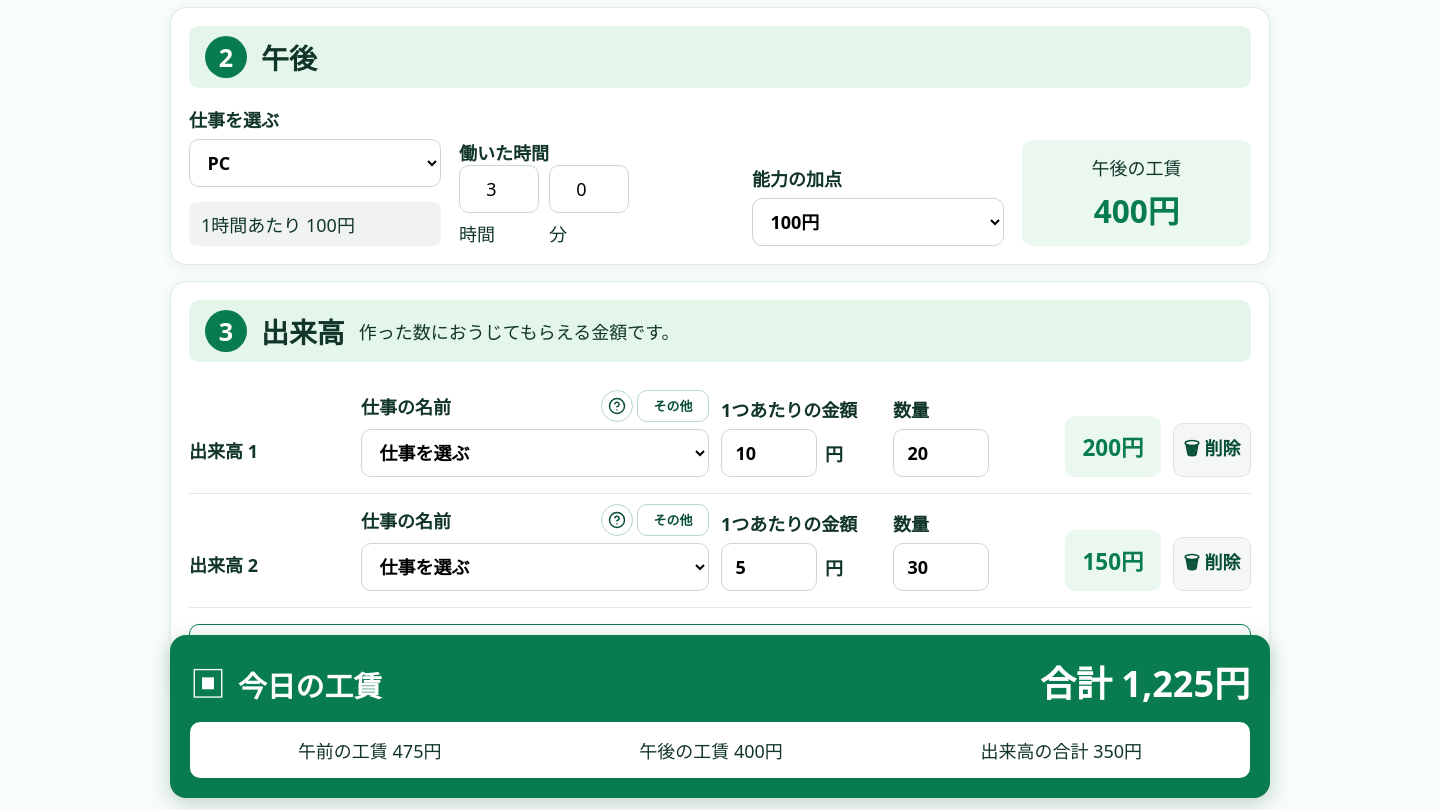
Test: 工賃シミュレーター › 出来高の名前ヘルプで入力欄とその他ボタンを案内する
(page scrolled)
Click the 1st button named "出来高の名前入力ヘルプ" at (617, 406), box [601,390,633,422]
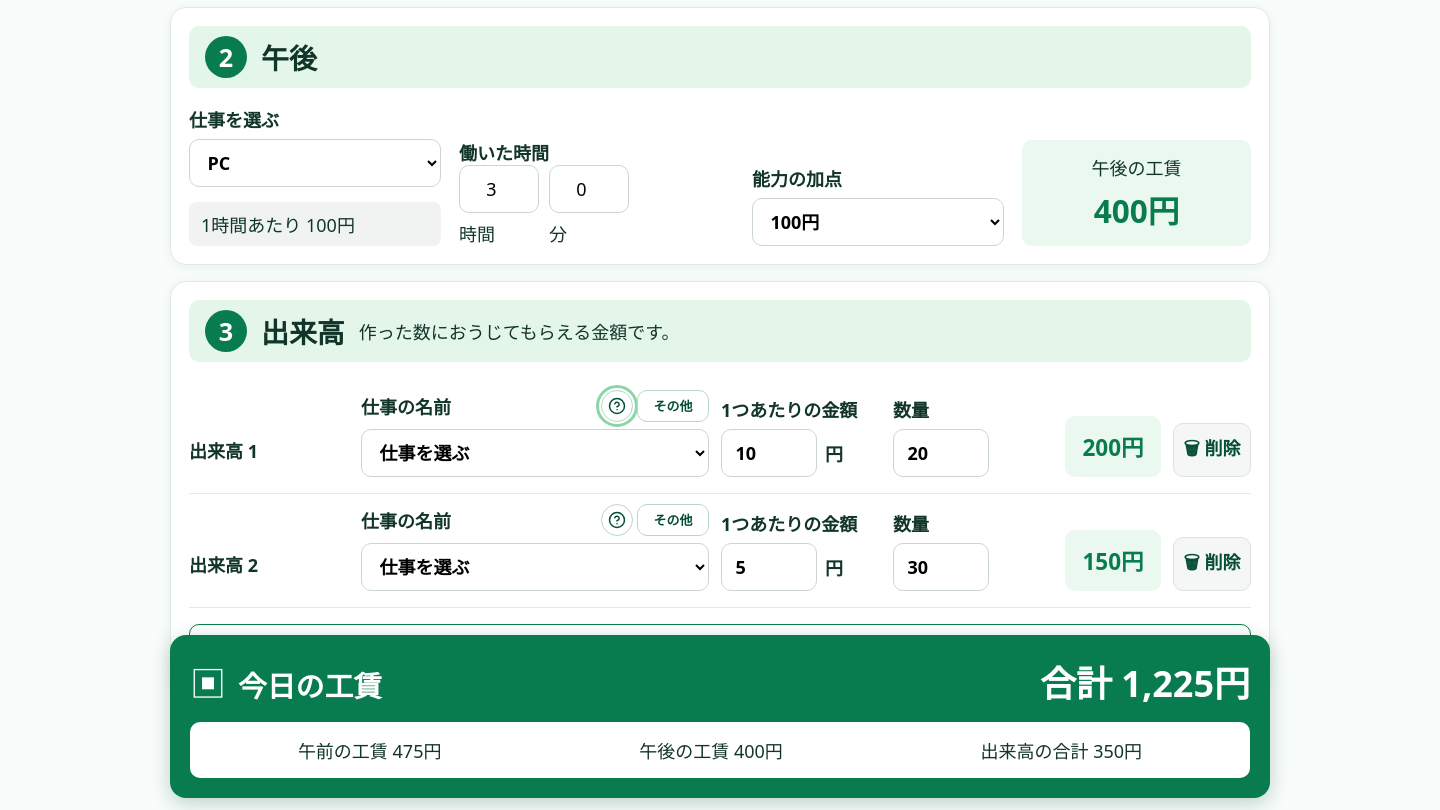
Click the 1st button named "出来高の名前入力ヘルプ" at (617, 406), box [601,390,633,422]
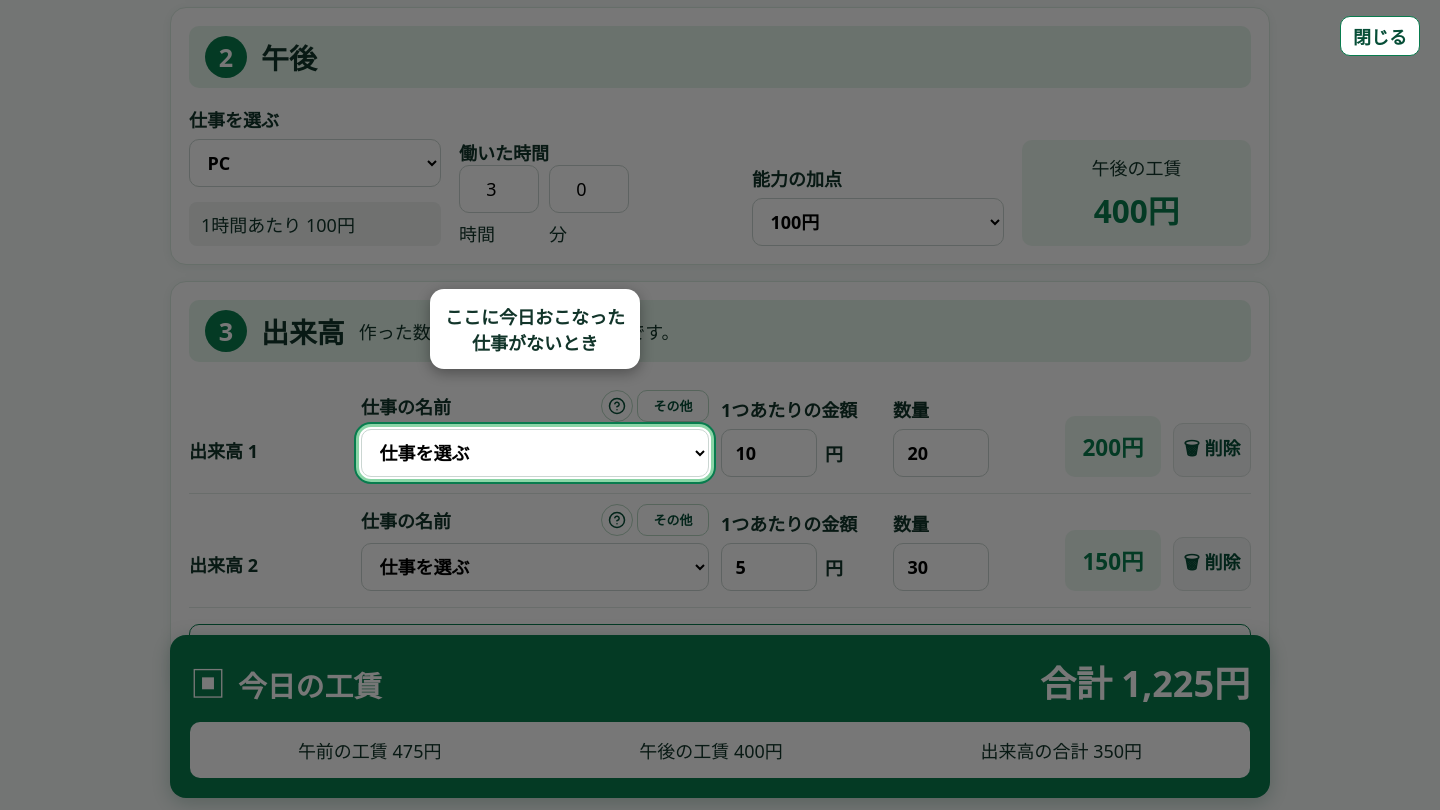
Now the text "ここに今日おこなった仕事がないとき" is shown, box [430,288,640,368]
Click the element showing "ここに今日おこなった仕事がないとき 閉じる" at (720, 405), box [0,0,1439,809]
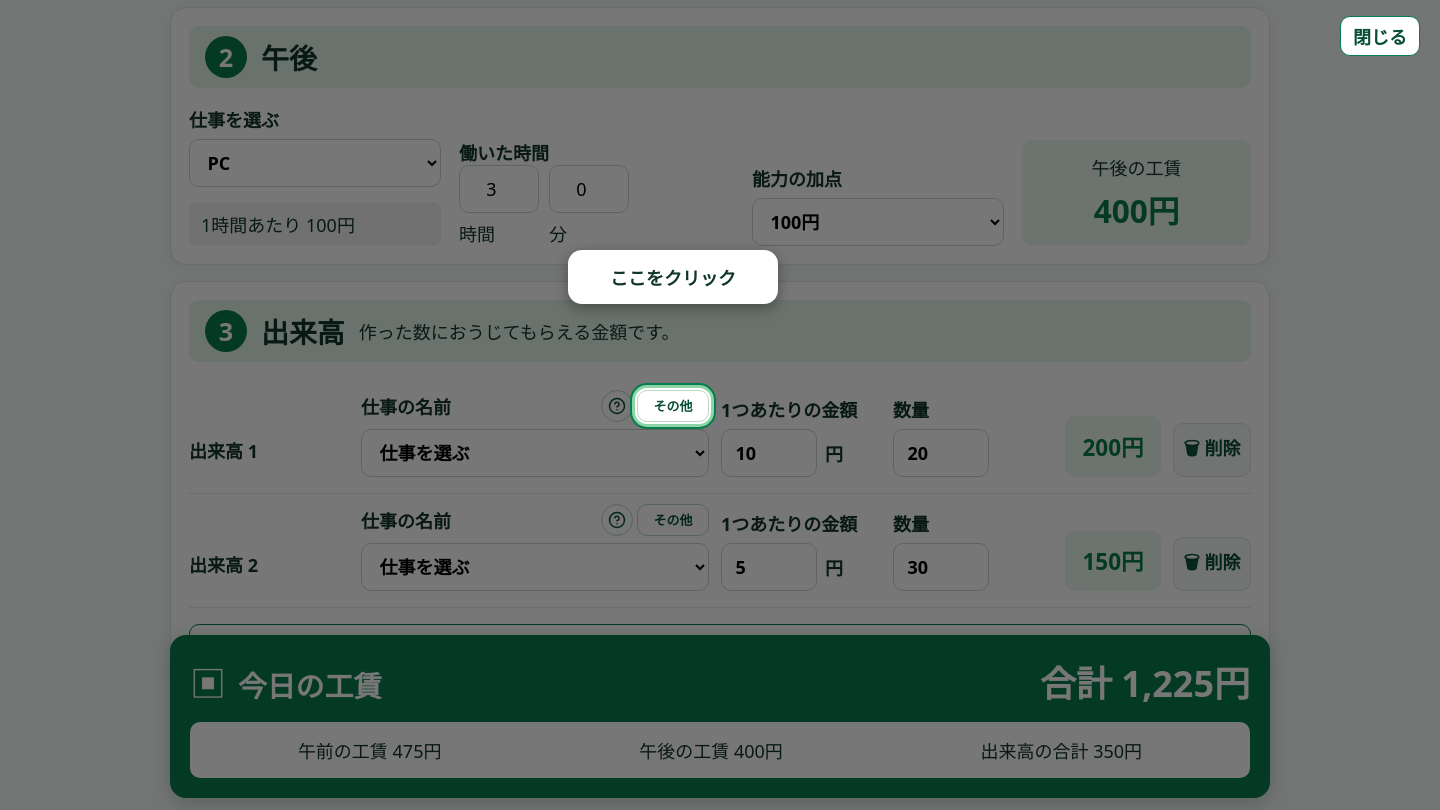
Now the text "ここをクリック" is shown, box [568,250,778,304]
Click the button with aria-label "出来高の名前入力方式を切り替える" at (673, 406), box [637,390,709,422]
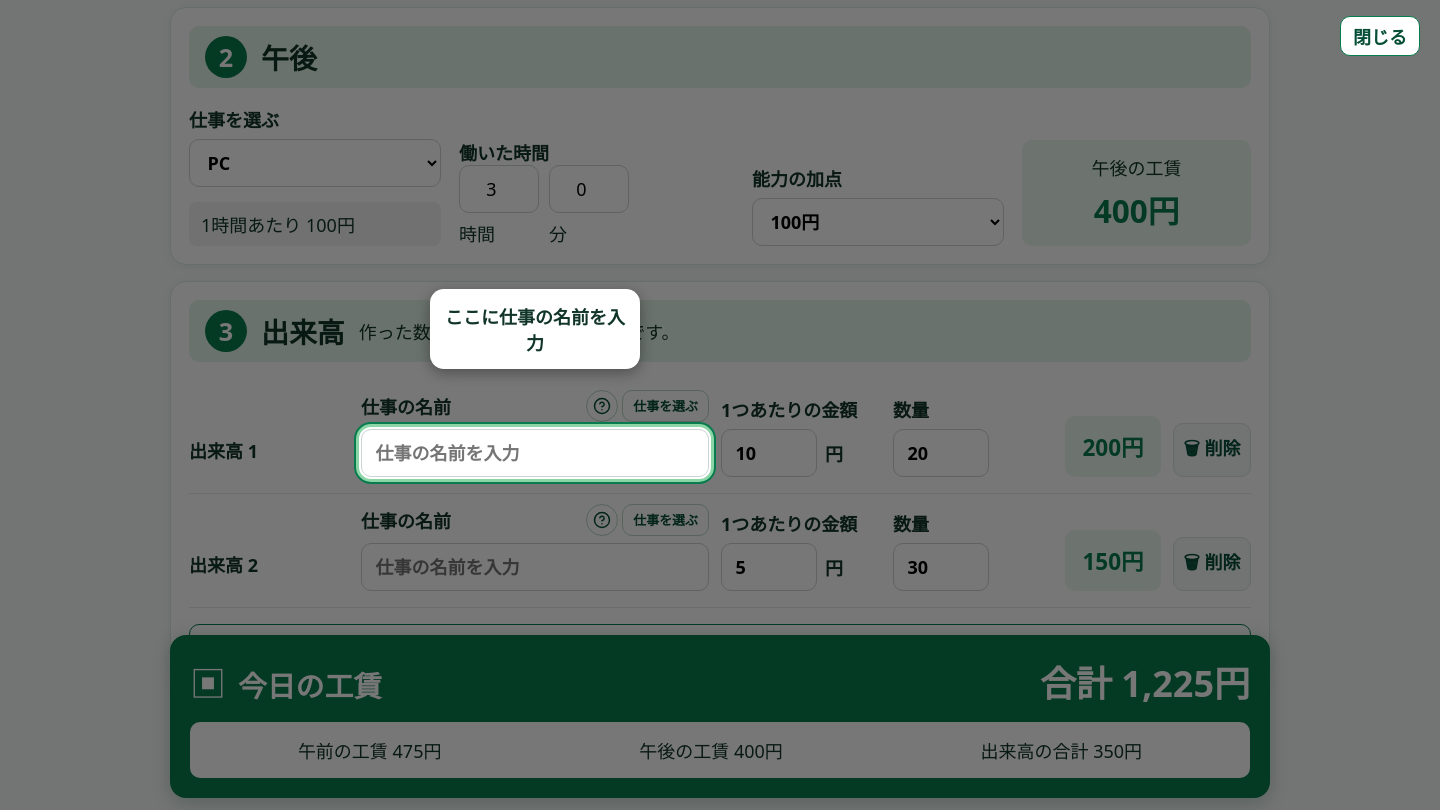
Now the text "ここに仕事の名前を入力" is shown, box [430,288,640,368]
